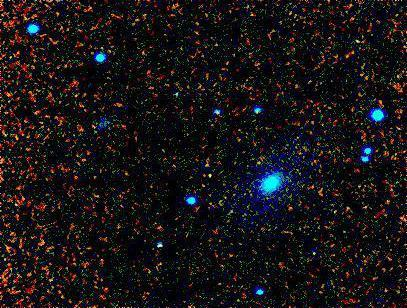star: (197, 164, 227, 194)
